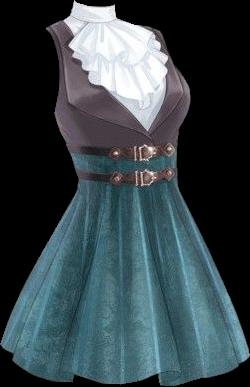Bodice: (46, 0, 190, 149)
Hemline: (0, 341, 249, 386)
Neckline: (68, 14, 118, 26), (72, 0, 113, 9)
Skirt: (1, 148, 249, 385)
Waistline: (71, 32, 168, 107), (63, 22, 157, 60), (77, 175, 177, 186), (66, 144, 177, 151)
